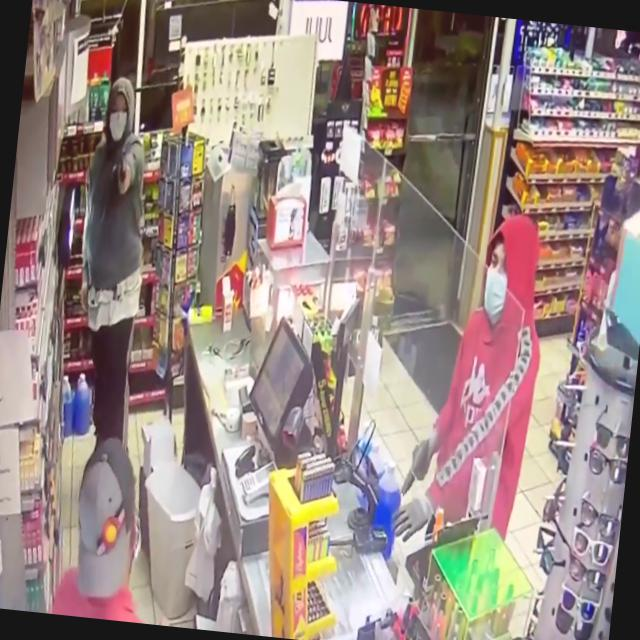handgun: (392, 422, 436, 511), (107, 132, 135, 196)
